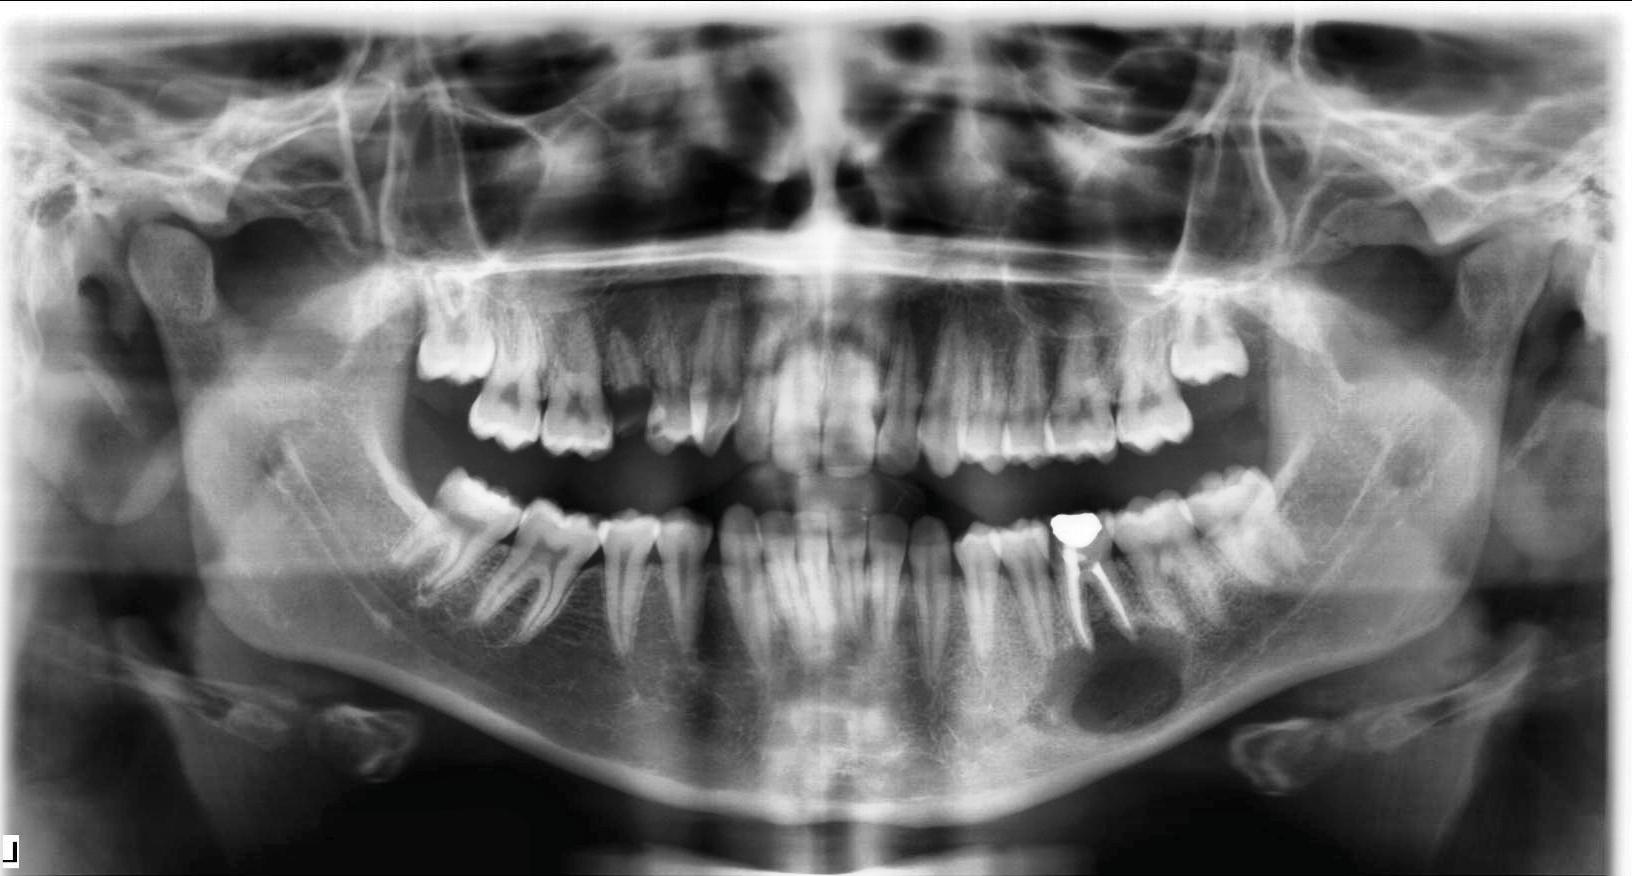radicular: (1021, 614, 1196, 739)
